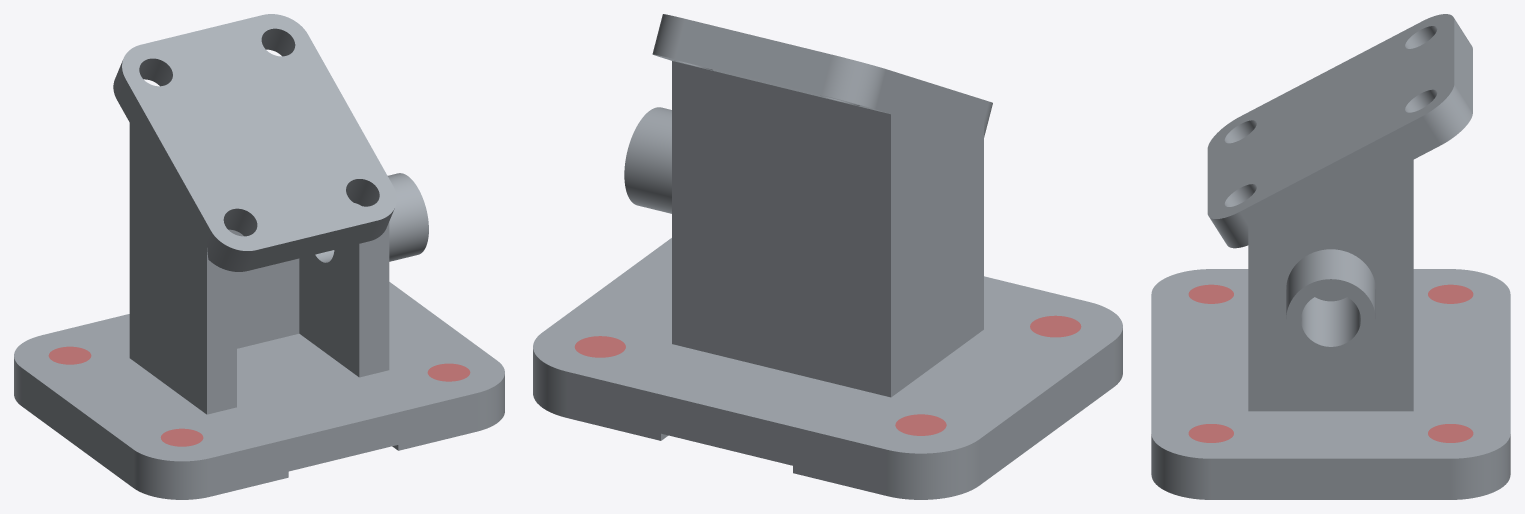
File: step_10.glb
The picture shows the model from 3 angles, left to right: view 1: azimuth 30°, elevation 25°; view 2: azimuth 150°, elevation 25°; view 3: azimuth 270°, elevation 25°; orthographic projection. The views are drawn at different scales.
Parts seen in each view (by area): view 1: part__angle bracket, removed__angle bracket; view 2: part__angle bracket, removed__angle bracket; view 3: part__angle bracket, removed__angle bracket.
Boxes of the visible parts, x1,y1,x2,y2 form: part__angle bracket: [14, 14, 504, 499]; removed__angle bracket: [48, 346, 470, 446]; part__angle bracket: [533, 14, 1122, 499]; removed__angle bracket: [574, 315, 1081, 435]; part__angle bracket: [1151, 14, 1510, 499]; removed__angle bracket: [1188, 284, 1473, 442].
Size of the model in its own units: 95.25 by 82.68 by 76.2.
